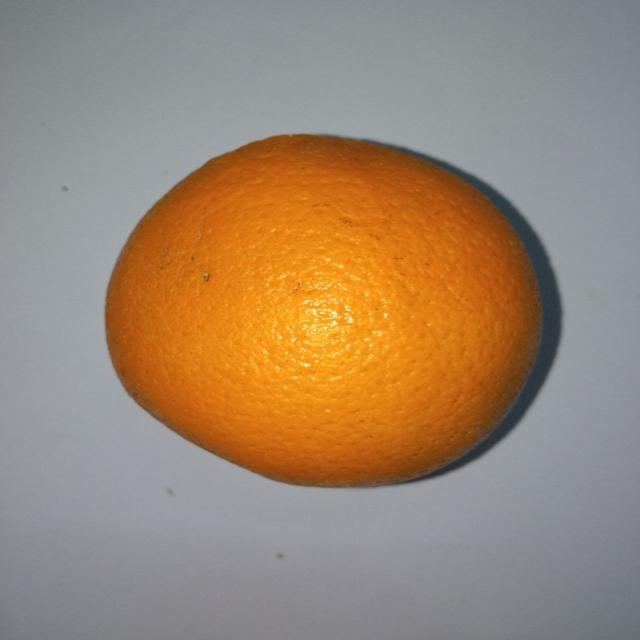fresh_orange: (101, 133, 543, 487)
